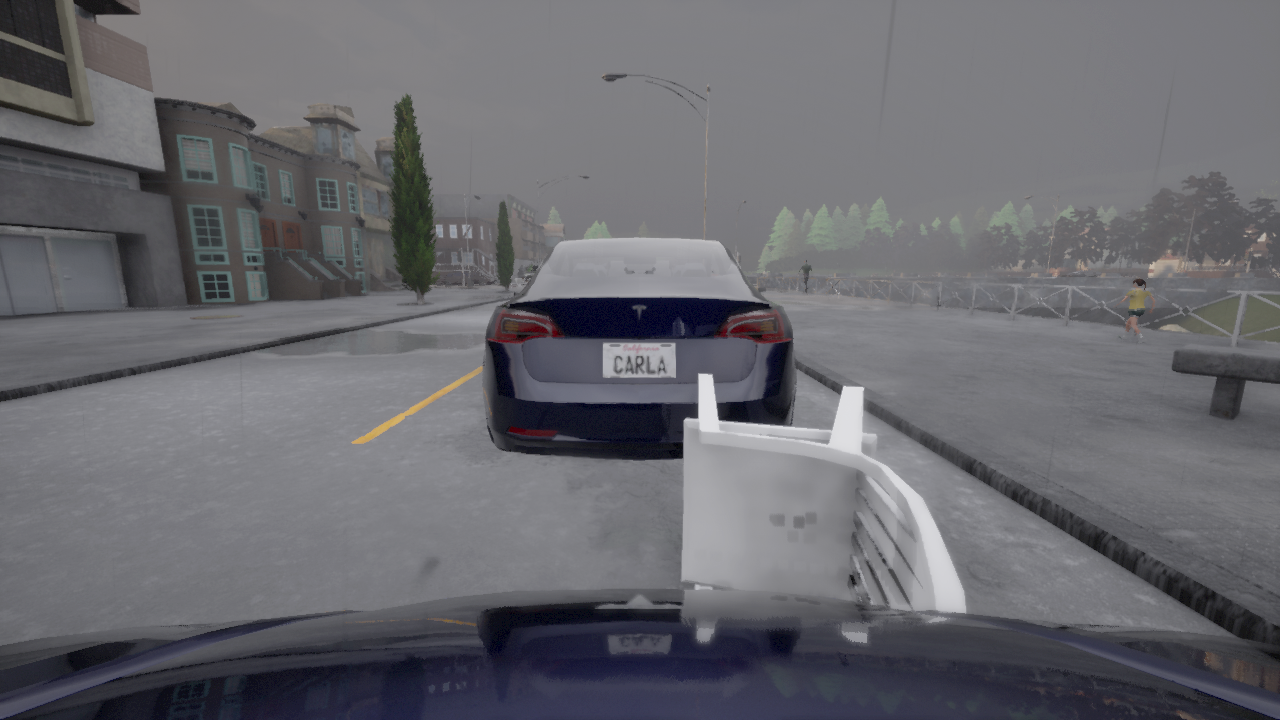cyclist: (0, 588, 1279, 719), (483, 238, 796, 459), (510, 257, 544, 297), (433, 271, 498, 286), (1057, 270, 1103, 277)
pedestrian: (1113, 278, 1155, 343), (796, 259, 812, 296)
